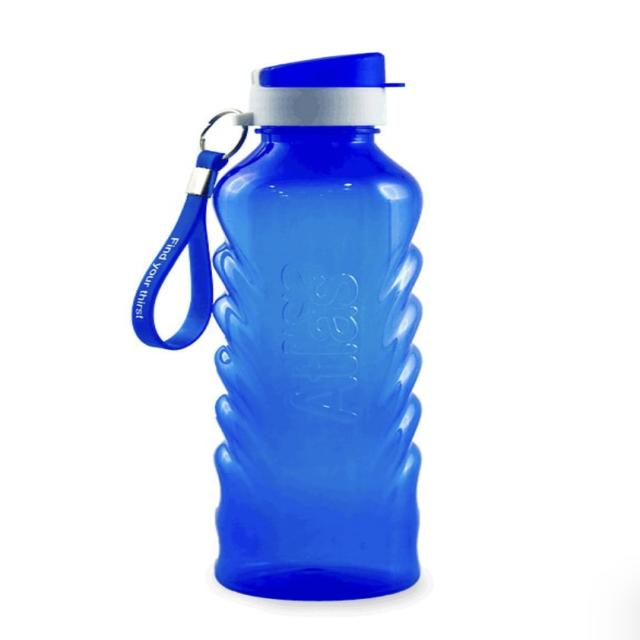recyclable: (128, 36, 536, 619)
